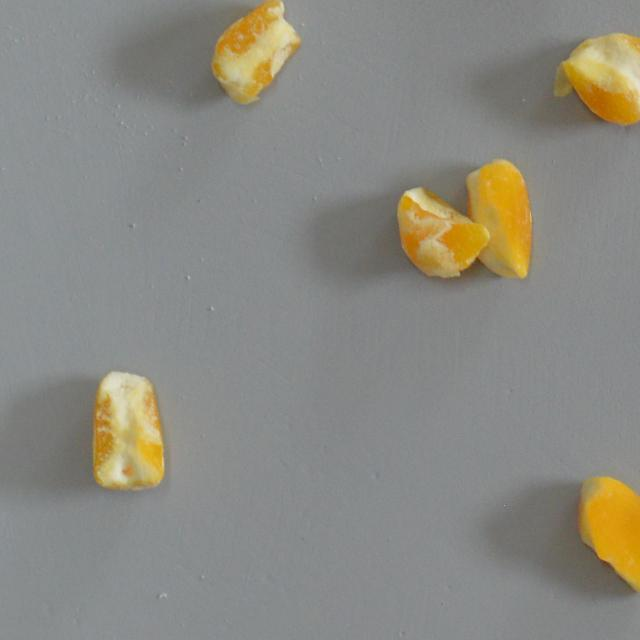dañado: (88, 366, 169, 494), (205, 0, 302, 106), (392, 182, 492, 282), (461, 154, 534, 284), (547, 28, 640, 129), (572, 469, 640, 604)
